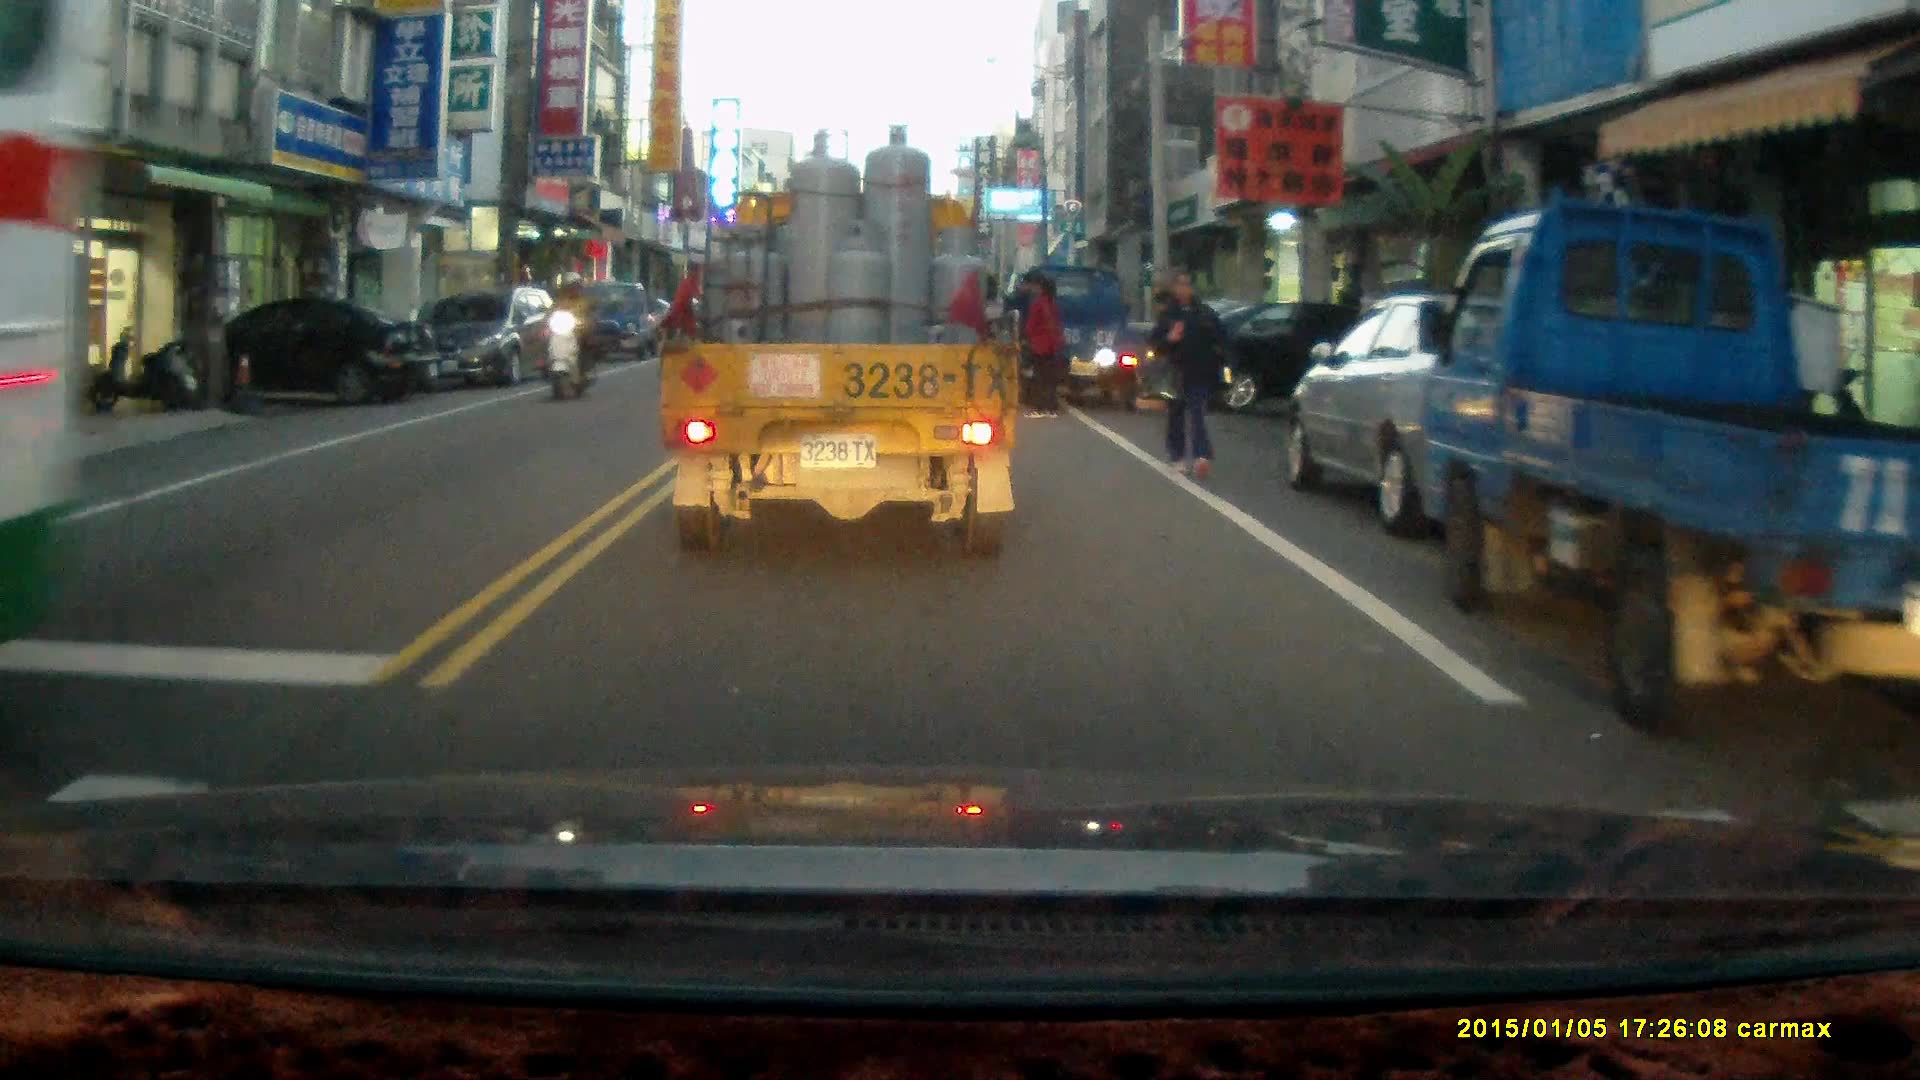pedestrian: (1146, 268, 1241, 479), (1023, 275, 1061, 413)
rider: (539, 266, 598, 400)
vehicle: (1417, 195, 1920, 741), (663, 123, 1024, 562), (1284, 288, 1617, 544), (1161, 296, 1440, 426), (1005, 261, 1154, 408), (424, 289, 568, 393), (572, 278, 675, 364)
